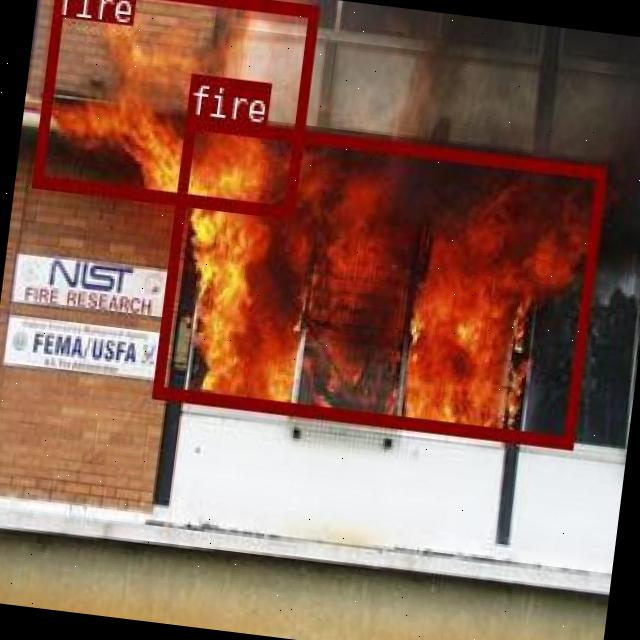fire: (150, 114, 604, 446), (31, 0, 317, 216)
